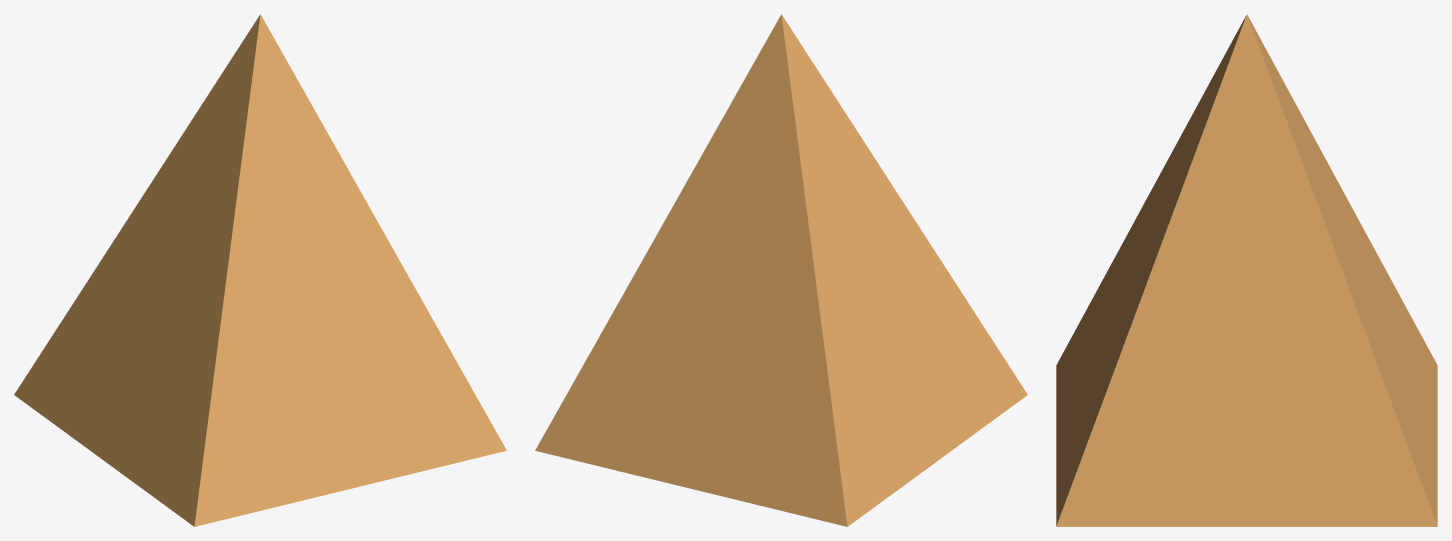
Rendered from test_monument.glb.
3 renders of one model, left to right at view 1: azimuth 30°, elevation 25°; view 2: azimuth 150°, elevation 25°; view 3: azimuth 270°, elevation 25°, orthographic. The views are drawn at different scales.
Size of the model in its own units: 2 by 2.5 by 2.
